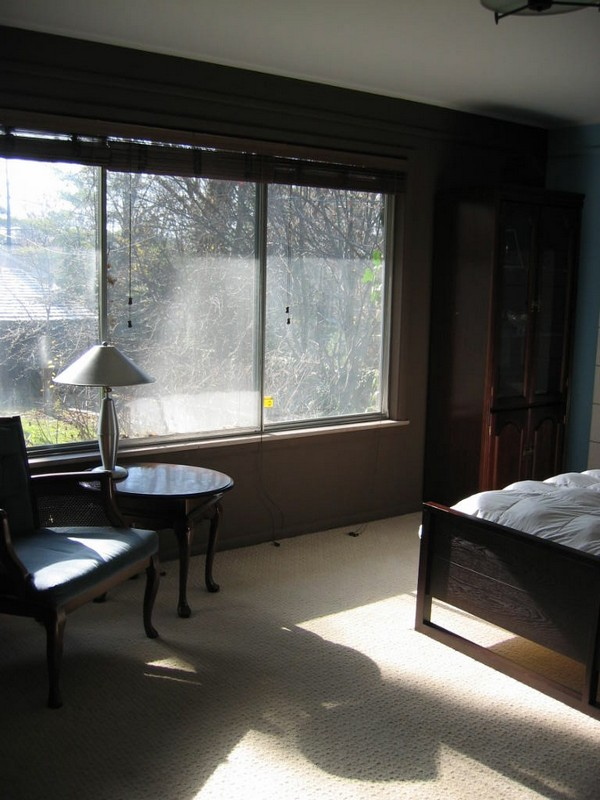bed: (419, 433, 599, 717)
chair: (5, 419, 168, 691)
lamp: (52, 341, 157, 489)
table: (82, 461, 230, 631)
